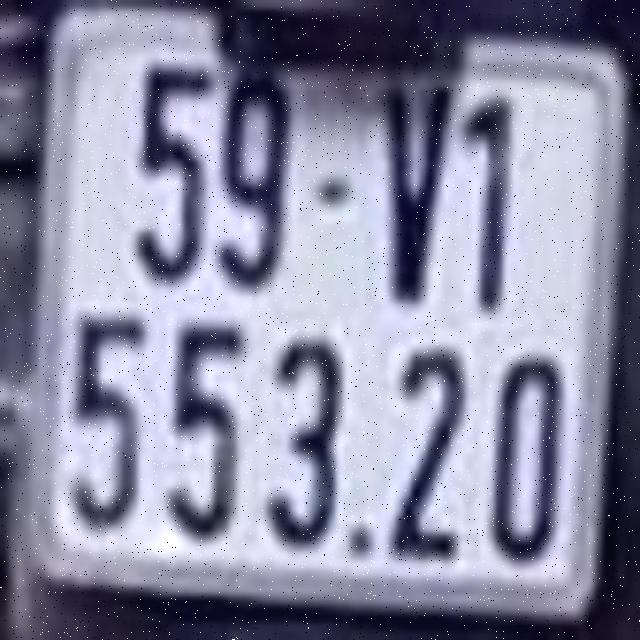0: (492, 355, 560, 560)
1: (462, 91, 516, 312)
2: (393, 346, 463, 560)
3: (269, 335, 340, 547)
5: (136, 63, 210, 282), (169, 322, 243, 540), (70, 312, 144, 529)
9: (219, 71, 289, 288)
V: (379, 82, 454, 306)
